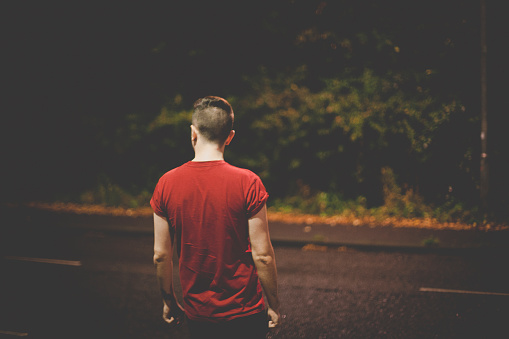em pe: (143, 103, 291, 337)
